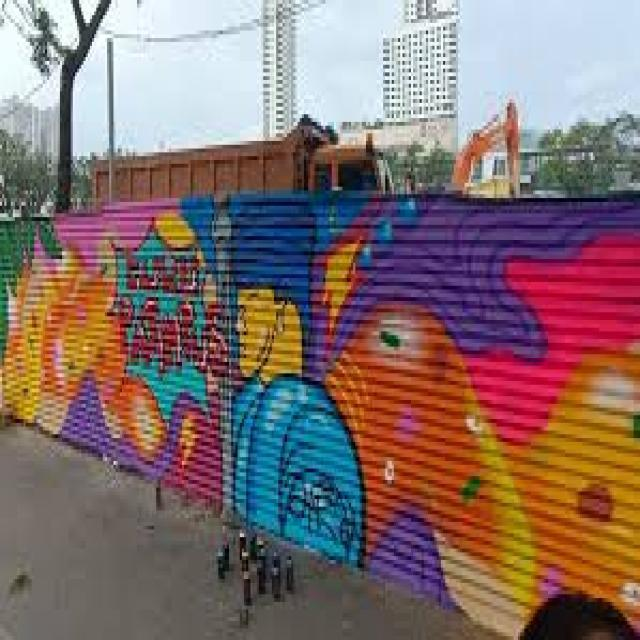-: (2, 195, 638, 640)
